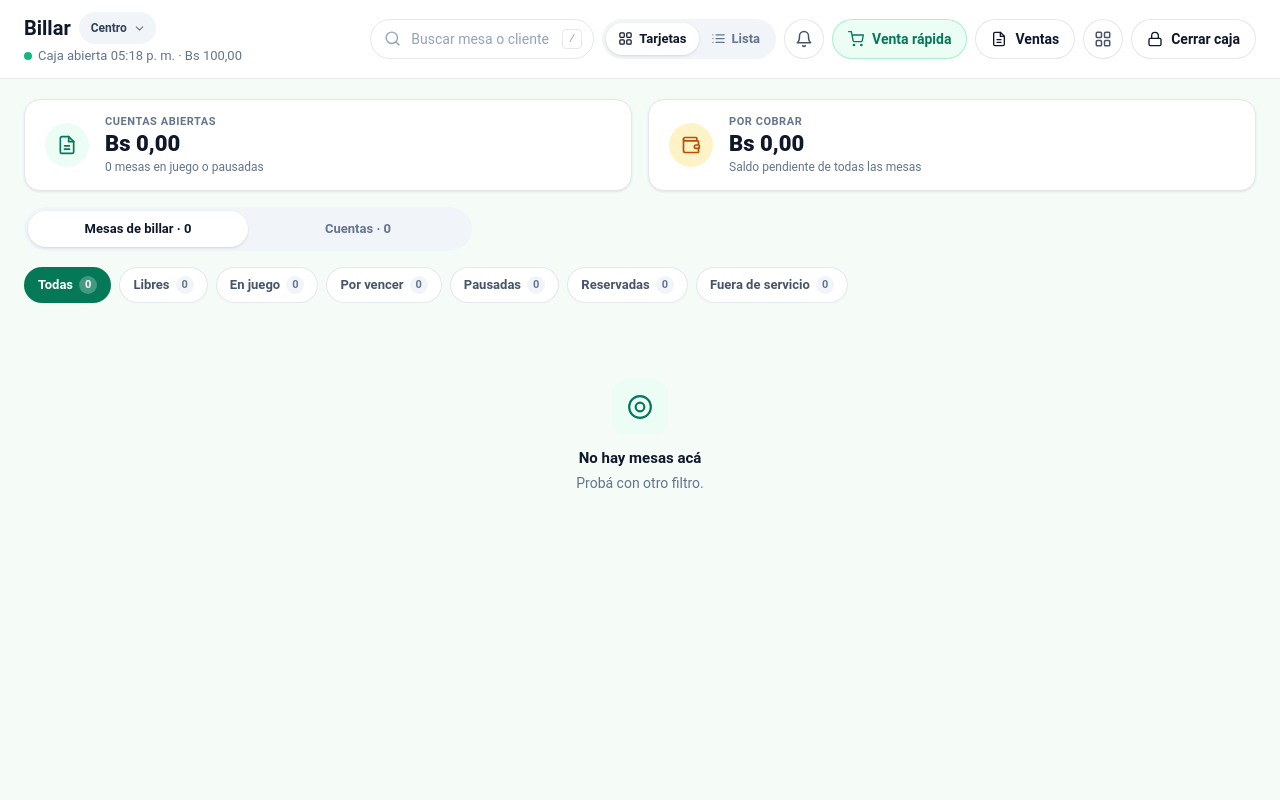
Test: Tablero: la sucursal › el dueño con varios locales elige en el encabezado, y el tablero se pide de ese
Expected: the heading "Billar" is shown, [24,12,156,44]
Select "Norte" in the dropdown named "Sucursal" at coordinates (117, 28), box [79,12,156,44]
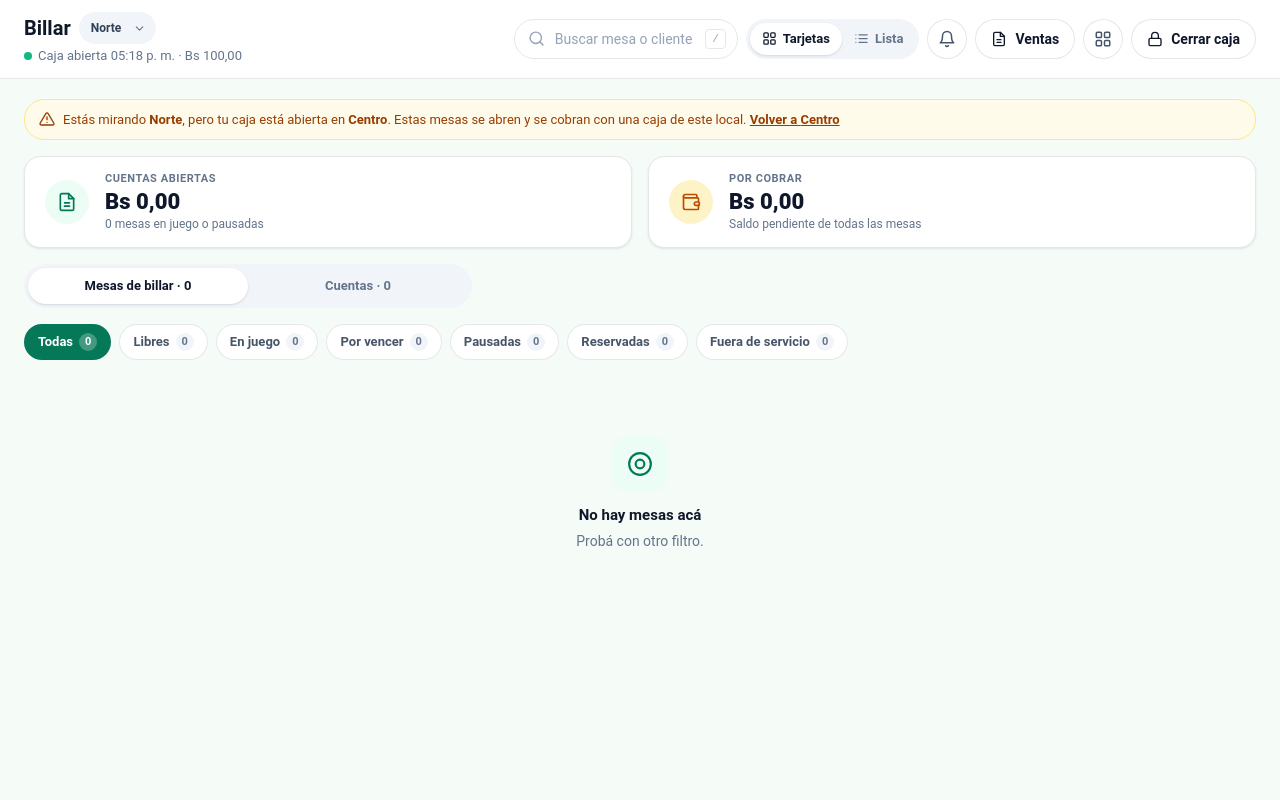
Expected: the dropdown named "Sucursal" shows "Norte", [79,12,156,44]
